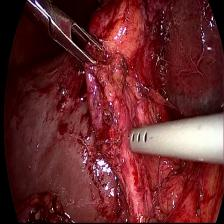Grasper: (48, 1, 111, 84)
Irrigator: (126, 116, 163, 160)
